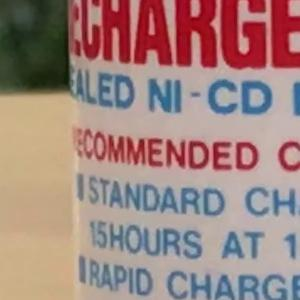NI-CD: (138, 71, 282, 123)
